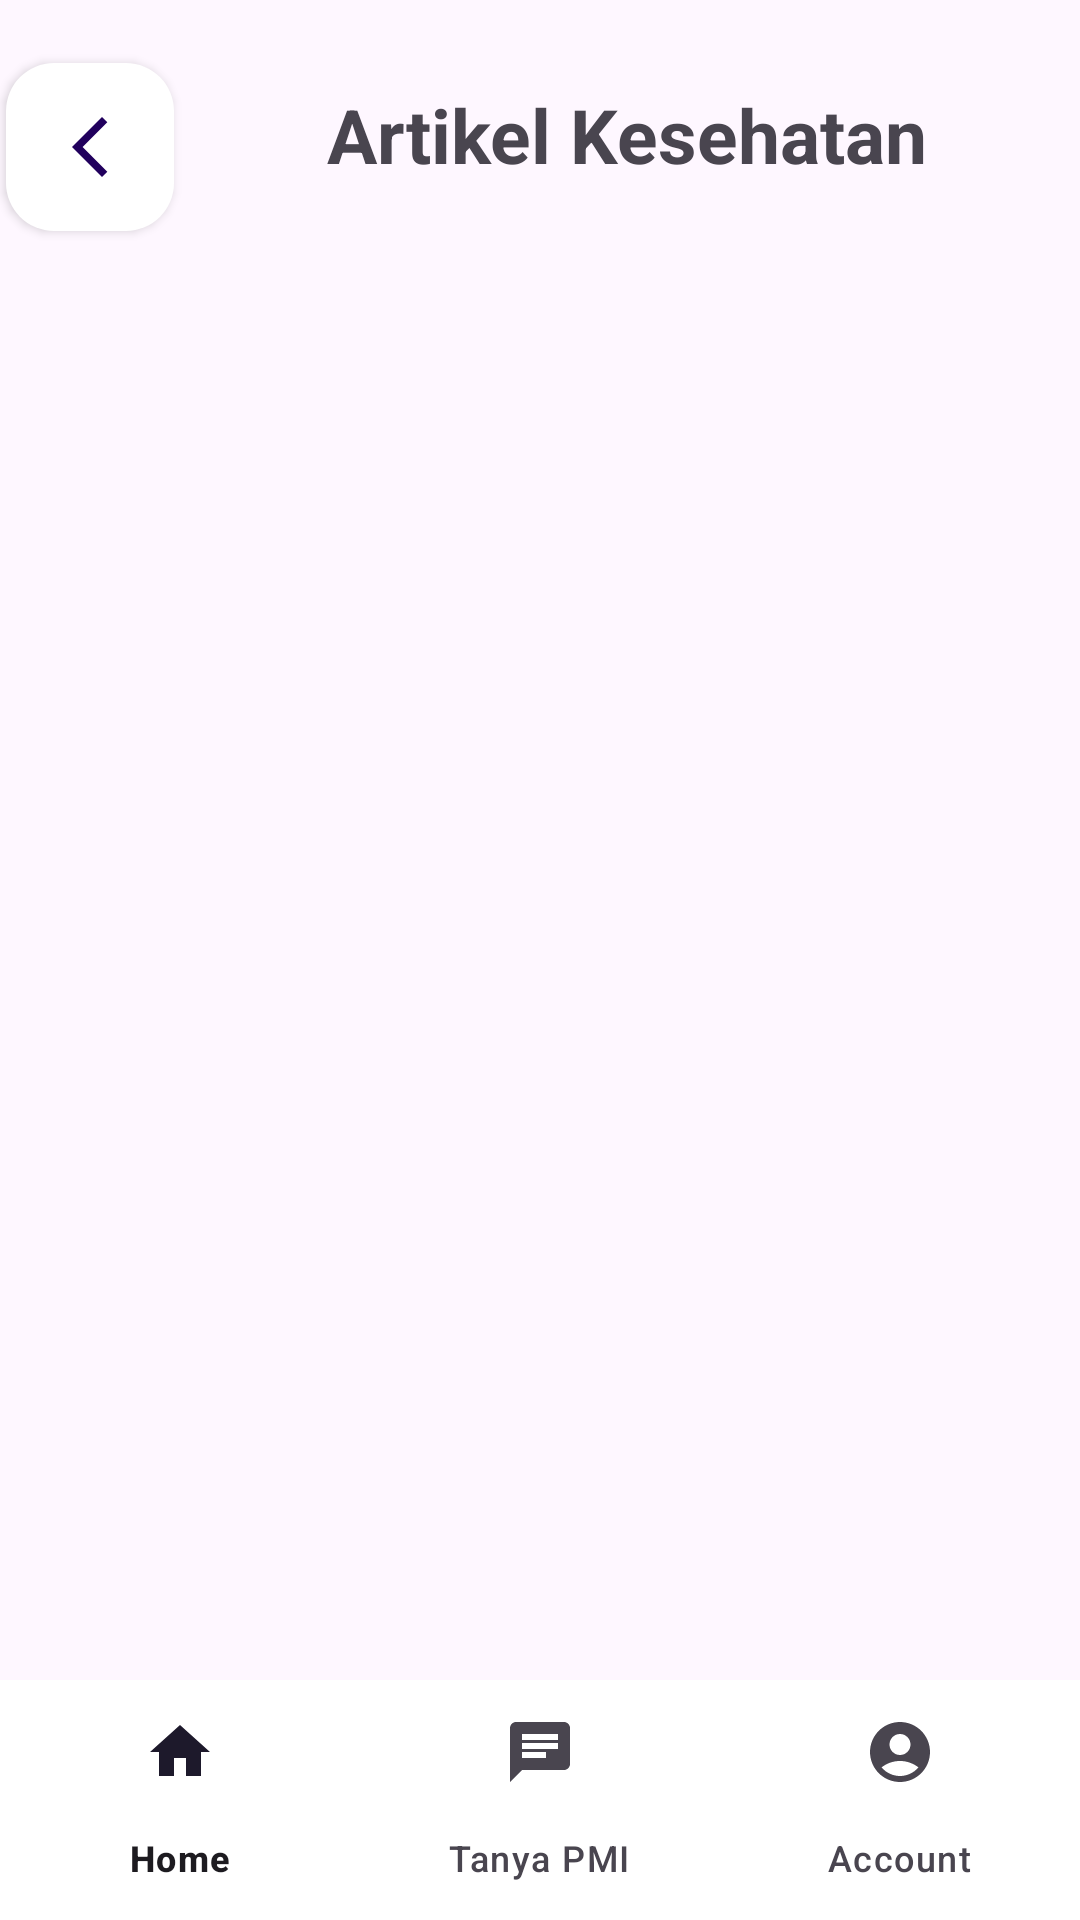

Screen size 1080px×1920px. Icon name, then its center in pixels as (x,y):
back: (73,147)
